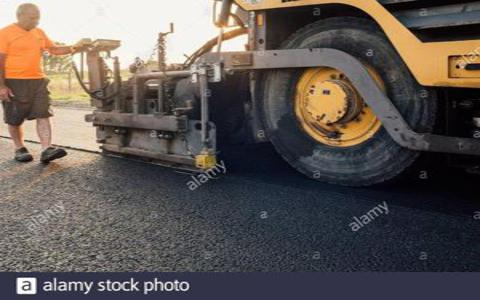Proper road: (65, 169, 178, 268)
